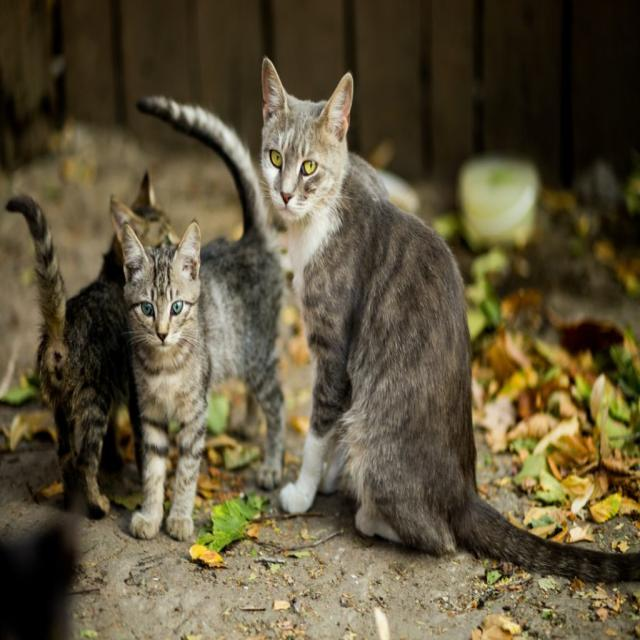cat: (262, 58, 640, 581), (122, 97, 284, 539), (6, 172, 178, 517)
